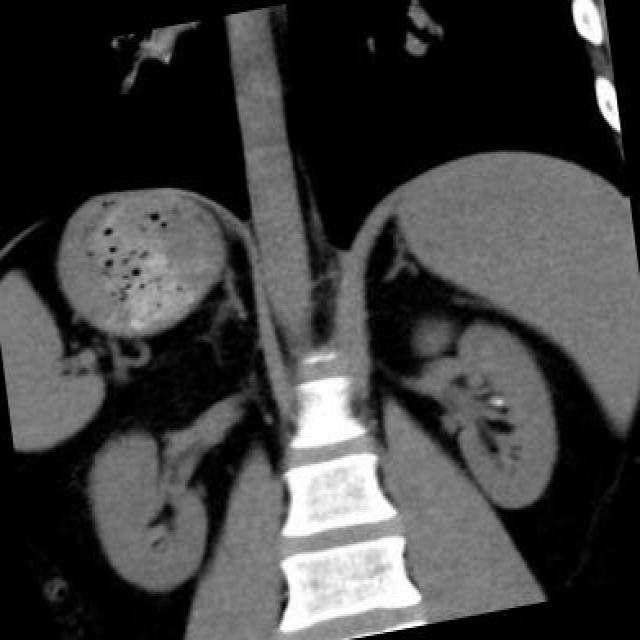Tas_Var: (493, 395, 505, 407), (486, 395, 496, 405)
